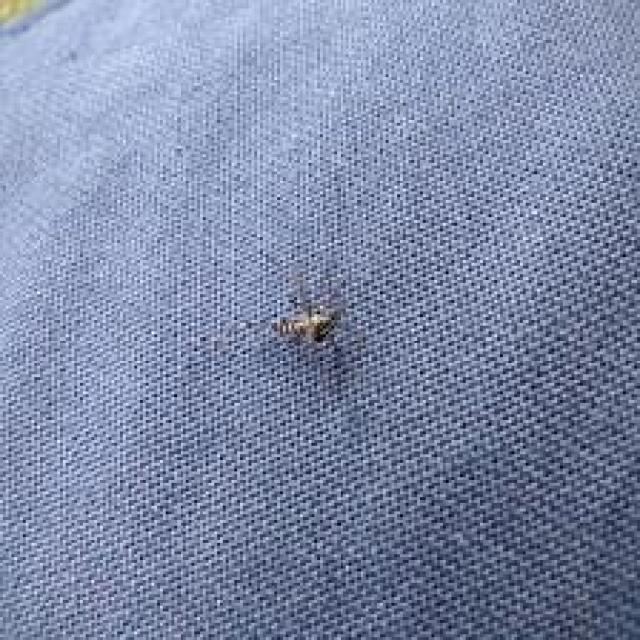Aedes albopictus: (266, 273, 343, 347)
